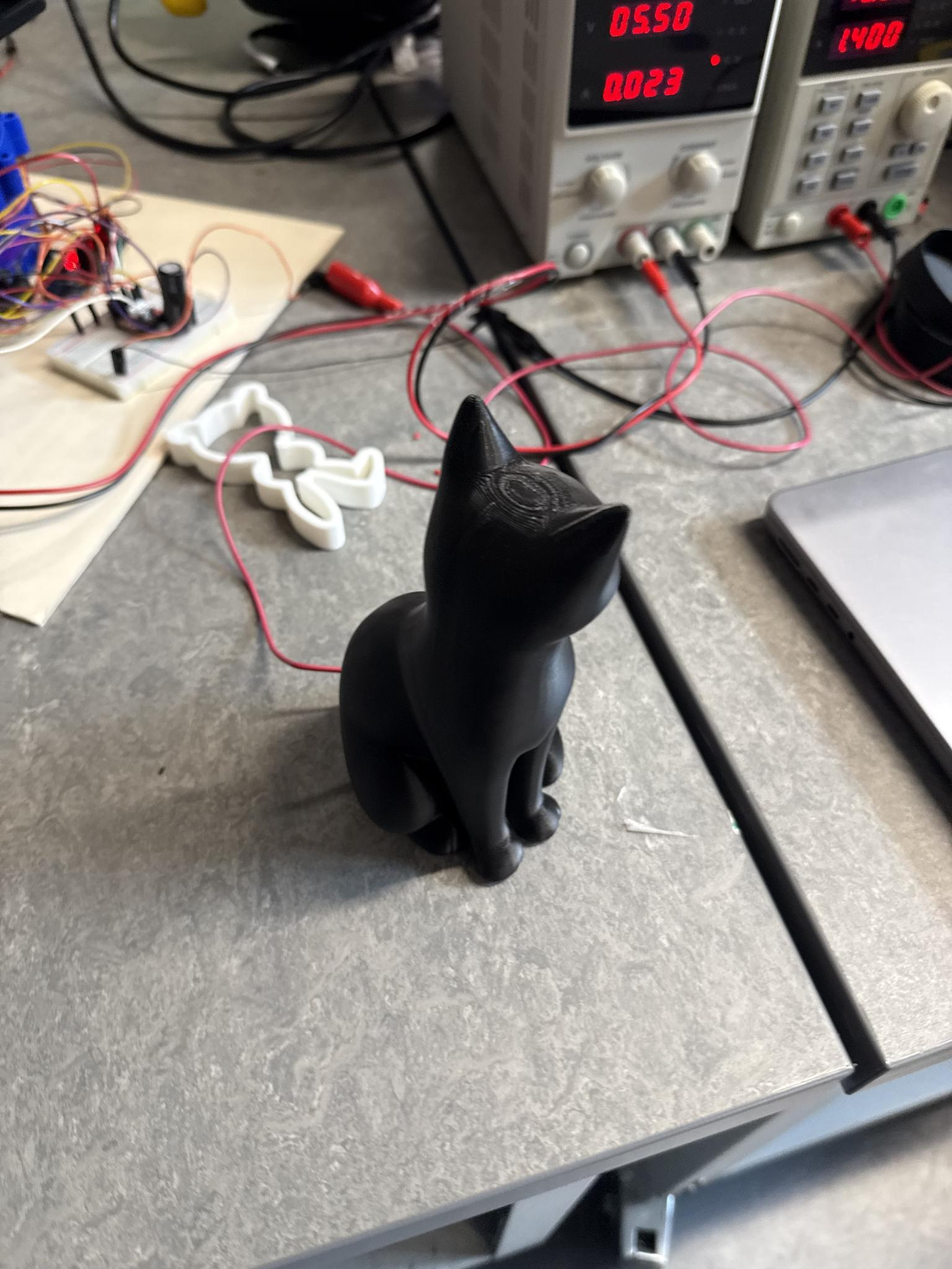cat: (340, 396, 629, 886)
